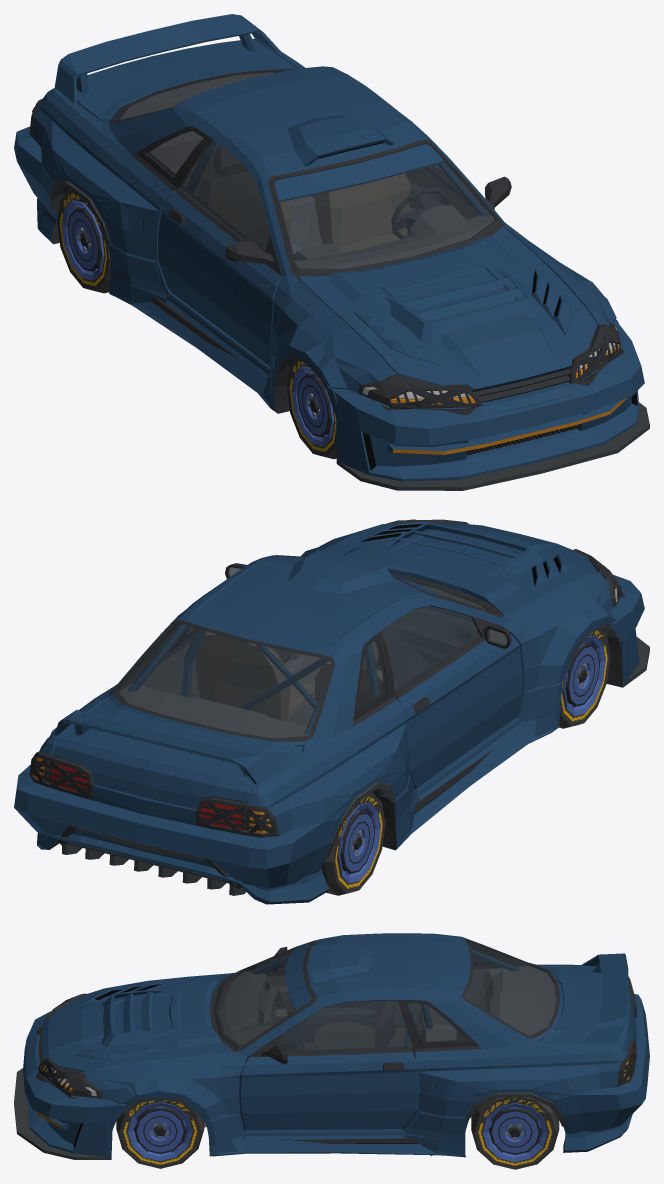
The model's file is redline_street_sports.glb.
The picture shows the model from 3 angles, top to bottom: view 1: azimuth 30°, elevation 25°; view 2: azimuth 150°, elevation 25°; view 3: azimuth 270°, elevation 25°; orthographic projection. The views are drawn at different scales.
Visible parts, largest first — view 1: Body, V_Front_Bumper_04, Glass, Door_R, V_Bonnet_03, V_Bonnet_01, V_Fenders_02, Trunk, V_Side_Skirts_02, V_Bonnet_02, V_Fenders_04, V_Windscreen_Sticker_01 (+14 smaller); view 2: Body, Glass, Door_R, V_Rear_Bumper_04, Trunk, V_Fenders_02, V_Bonnet_03, V_Rear_Bumper_02, V_Side_Skirts_02, V_Front_Bumper_04, V_Fenders_04, V_Rollcage_01 (+13 smaller); view 3: Body, Door_L, Glass, V_Fenders_02, V_Front_Bumper_04, V_Bonnet_03, V_Side_Skirts_02, V_Rear_Bumper_04, V_Bonnet_01, Trunk, V_Fenders_04, W_Wheel_RL_03 (+18 smaller).
Boxes of the visible parts, x1=… form: Body: x1=32, y1=14, x2=619, y2=408; V_Front_Bumper_04: x1=324, y1=322, x2=649, y2=490; Glass: x1=117, y1=68, x2=494, y2=268; Door_R: x1=158, y1=140, x2=281, y2=367; V_Bonnet_03: x1=327, y1=236, x2=572, y2=387; V_Bonnet_01: x1=299, y1=226, x2=597, y2=391; V_Fenders_02: x1=40, y1=120, x2=616, y2=392; Trunk: x1=76, y1=38, x2=296, y2=121; V_Side_Skirts_02: x1=108, y1=243, x2=289, y2=413; V_Bonnet_02: x1=385, y1=268, x2=543, y2=342; V_Fenders_04: x1=40, y1=120, x2=607, y2=382; V_Windscreen_Sticker_01: x1=274, y1=144, x2=444, y2=201; Body: x1=33, y1=522, x2=609, y2=837; Glass: x1=117, y1=573, x2=492, y2=738; Door_R: x1=381, y1=606, x2=522, y2=788; V_Rear_Bumper_04: x1=14, y1=751, x2=322, y2=888; Trunk: x1=53, y1=699, x2=303, y2=809; V_Fenders_02: x1=50, y1=542, x2=616, y2=874; V_Bonnet_03: x1=343, y1=522, x2=572, y2=603; V_Rear_Bumper_02: x1=30, y1=778, x2=328, y2=904; V_Side_Skirts_02: x1=380, y1=680, x2=562, y2=850; V_Front_Bumper_04: x1=387, y1=519, x2=649, y2=687; V_Fenders_04: x1=50, y1=533, x2=610, y2=872; V_Rollcage_01: x1=128, y1=607, x2=472, y2=734; Body: x1=38, y1=933, x2=636, y2=1128; Door_L: x1=239, y1=1000, x2=419, y2=1130; Glass: x1=217, y1=939, x2=556, y2=1045; V_Fenders_02: x1=93, y1=1065, x2=584, y2=1133; V_Front_Bumper_04: x1=14, y1=994, x2=130, y2=1159; V_Bonnet_03: x1=42, y1=979, x2=221, y2=1059; V_Side_Skirts_02: x1=205, y1=1111, x2=467, y2=1157; V_Rear_Bumper_04: x1=567, y1=976, x2=649, y2=1133; V_Bonnet_01: x1=41, y1=973, x2=233, y2=1071; Trunk: x1=539, y1=966, x2=635, y2=1051; V_Fenders_04: x1=104, y1=1064, x2=599, y2=1131; W_Wheel_RL_03: x1=471, y1=1097, x2=559, y2=1169.
Size of the model in its own units: 1.87 by 1.29 by 4.54.
4 materials, 3 textured.
